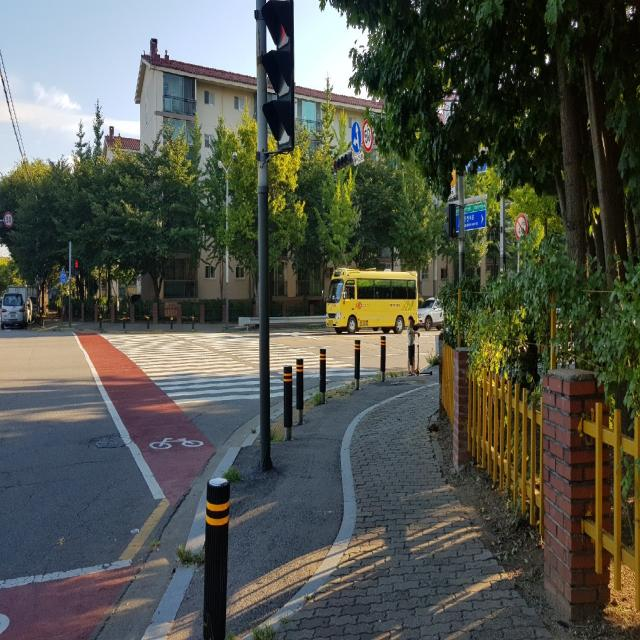빨간불: (266, 5, 292, 145), (74, 260, 80, 276)
횡단보도: (99, 333, 380, 403)
